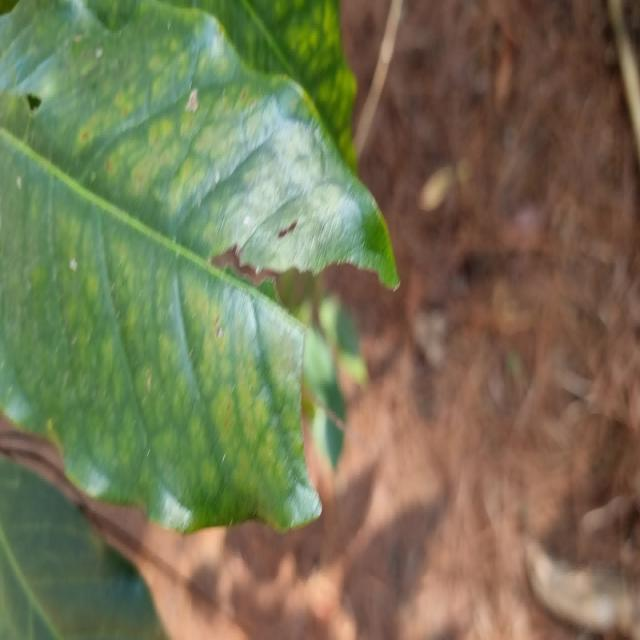leaves: (1, 1, 398, 530)
